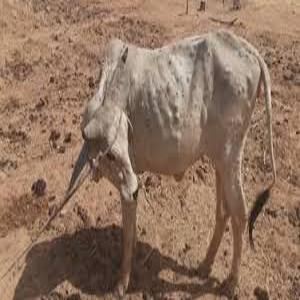lumpy skin diesease: (46, 28, 278, 299)
